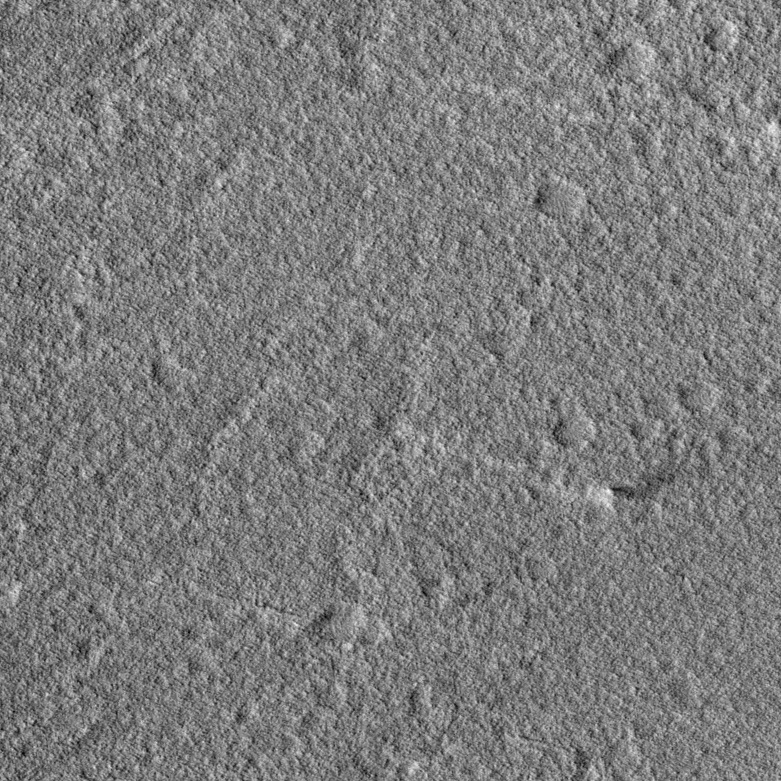dust_devil: (597, 473, 668, 514)
